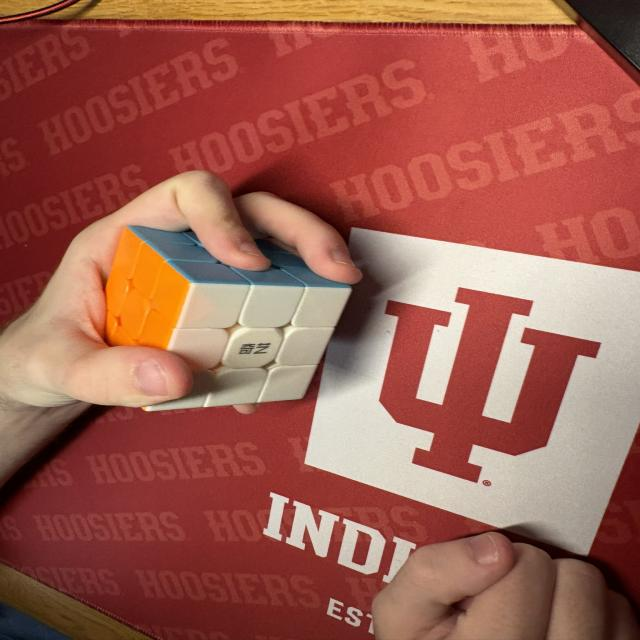Rubiks Cube: (104, 225, 352, 412)
